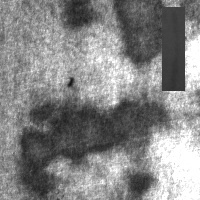inclusion: (162, 7, 185, 91)
patches: (22, 96, 167, 164), (14, 122, 62, 199), (113, 1, 168, 67), (118, 168, 158, 199), (61, 1, 97, 28), (177, 1, 200, 30)
